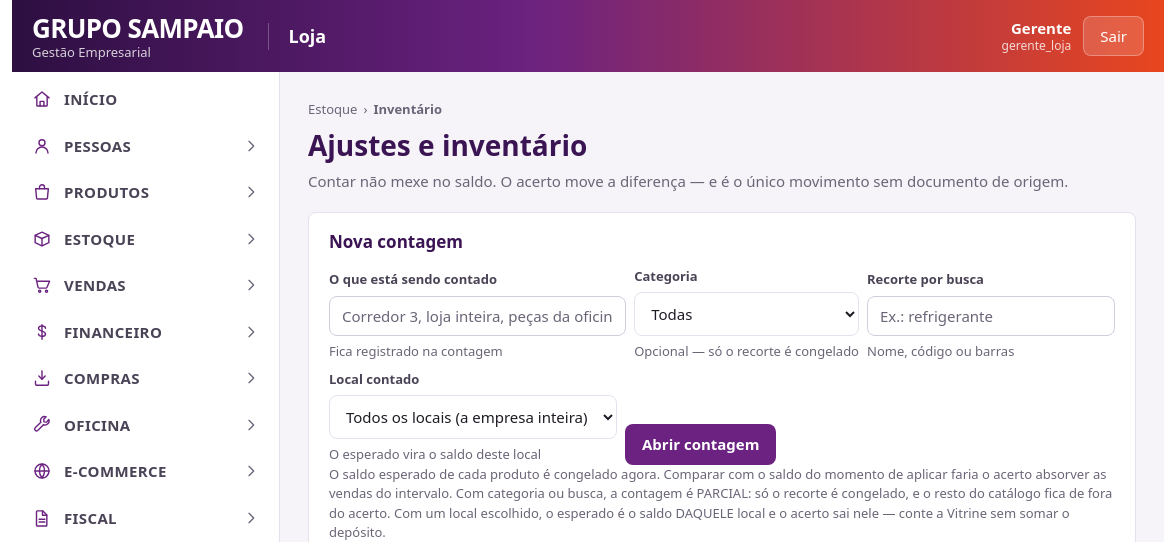
Test case: GAP-PRD-167 — a contagem de um local pela tela › com dois locais, o seletor aparece e o locationId viaja na abertura
Select "Vitrine (VIT)" in the dropdown labelled "Local contado" at (473, 417), box [329, 395, 617, 439]
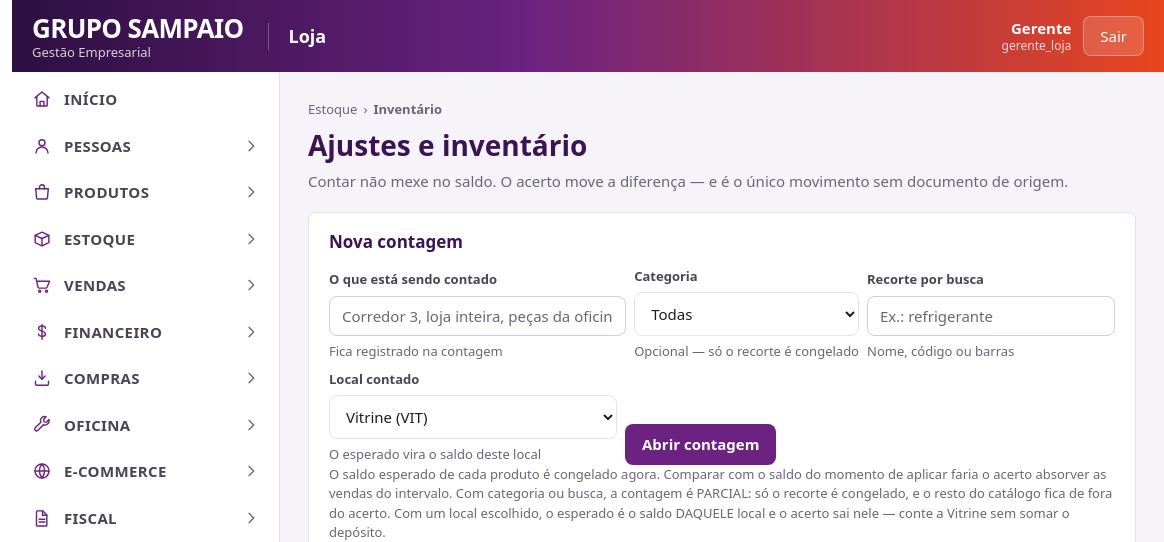
Click the button "Abrir contagem" at (701, 444), box [625, 424, 776, 464]
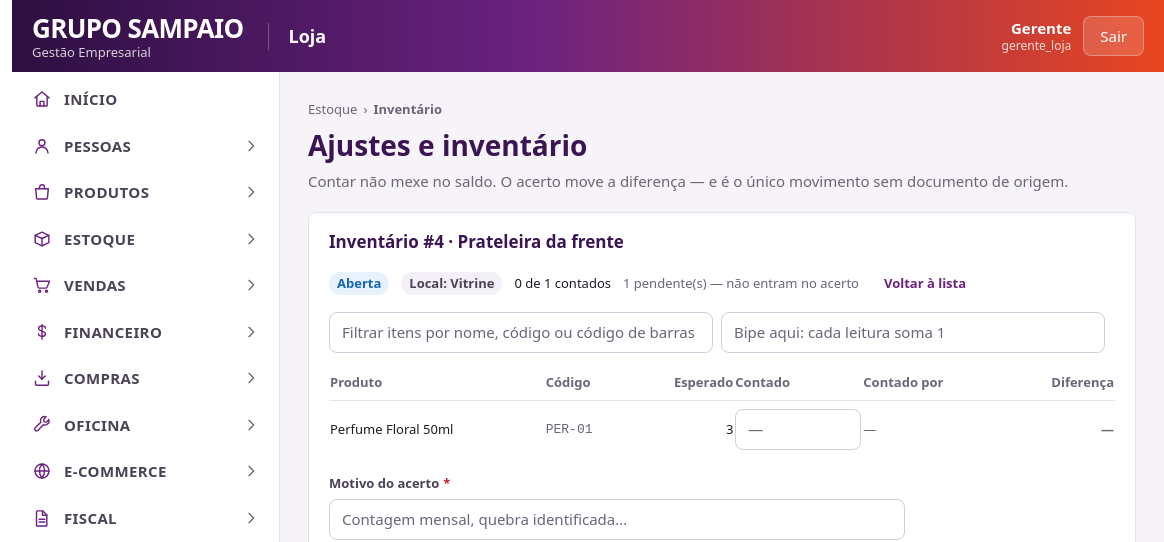
Check: the text "Local: Vitrine" is shown, box [401, 272, 502, 295]
Check: the text "3" is shown, box [629, 400, 734, 458]
